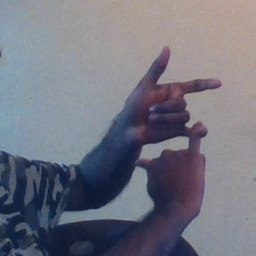S: (106, 44, 232, 179)
